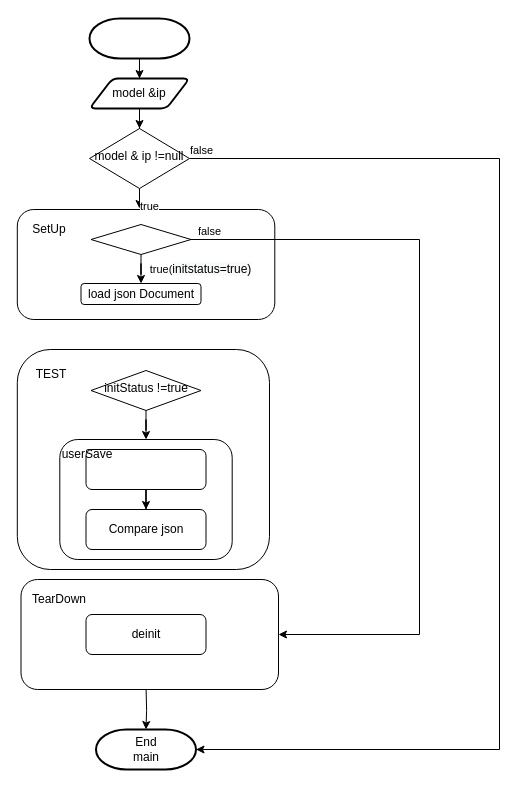
Some shapes in this 526 by 787 pixel diagram are drawn without their labels. Here are the shapes that lost their labels. From the top down, the box of each, then its label:
(88, 17, 190, 59): Start main
(90, 224, 191, 254): init
(85, 448, 206, 490): getDevicelist
